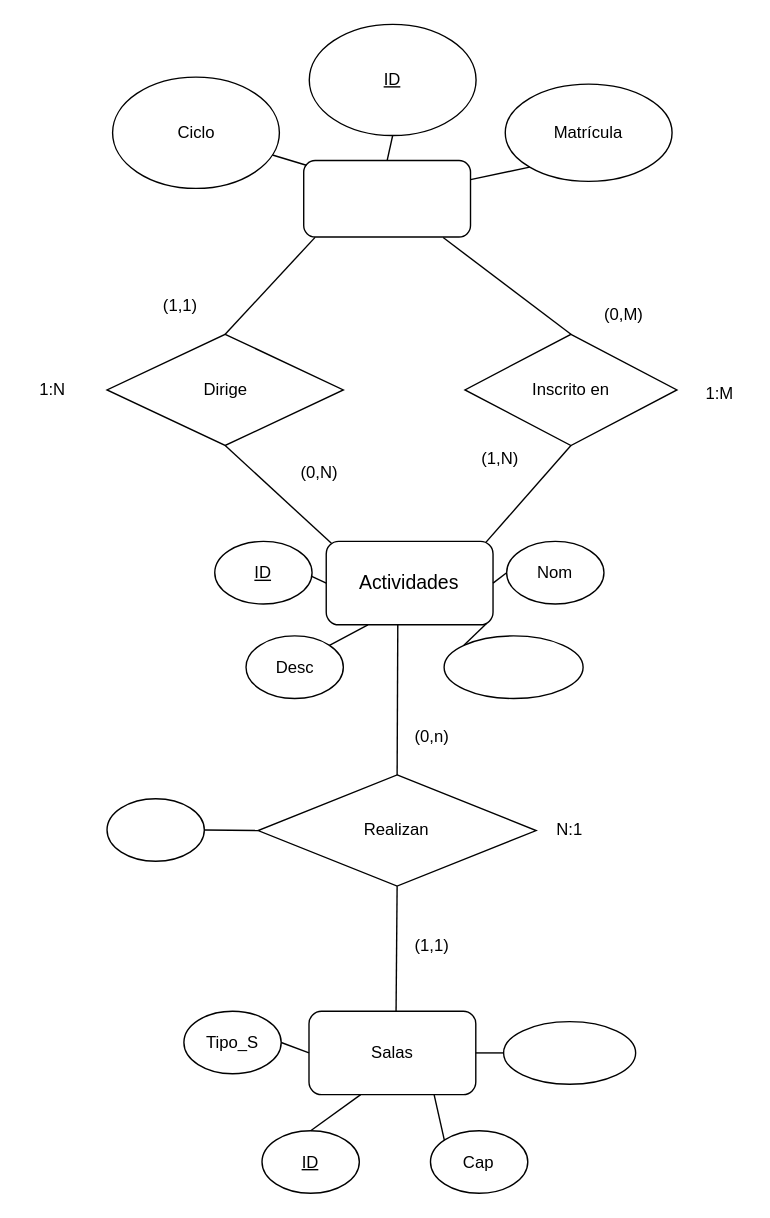
Image size: 770x1218. Some labels were removed from this diagram. Here are the shapes that lost their labels. From the top down, the centre of each, then its label:
At point 386,198: "Usuarios".
At point 513,666: "NumMaxIns".
At point 155,829: "DD/H/Sala".
At point 569,1052: "Código_S".
